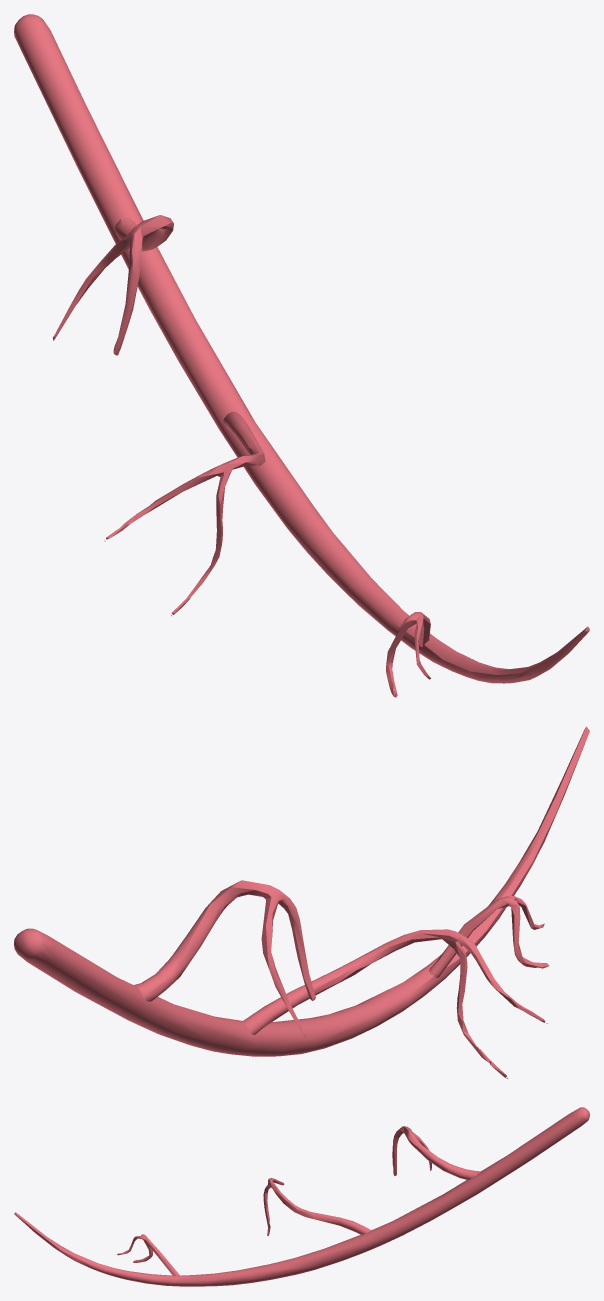
File: fma51231_cx109.glb
3 views of the same model, one above another, from view 1: azimuth 30°, elevation 25°; view 2: azimuth 150°, elevation 25°; view 3: azimuth 270°, elevation 25° (orthographic). The views are drawn at different scales.
Visible parts, largest first — view 1: FMA51231_CX109; view 2: FMA51231_CX109; view 3: FMA51231_CX109.
Part boxes in pixels (x1=…): FMA51231_CX109: x1=14, y1=14, x2=589, y2=697; FMA51231_CX109: x1=14, y1=726, x2=589, y2=1078; FMA51231_CX109: x1=14, y1=1107, x2=589, y2=1286.
Bounding box in the file's own units: 0.0134 × 0.0188 × 0.0552.
